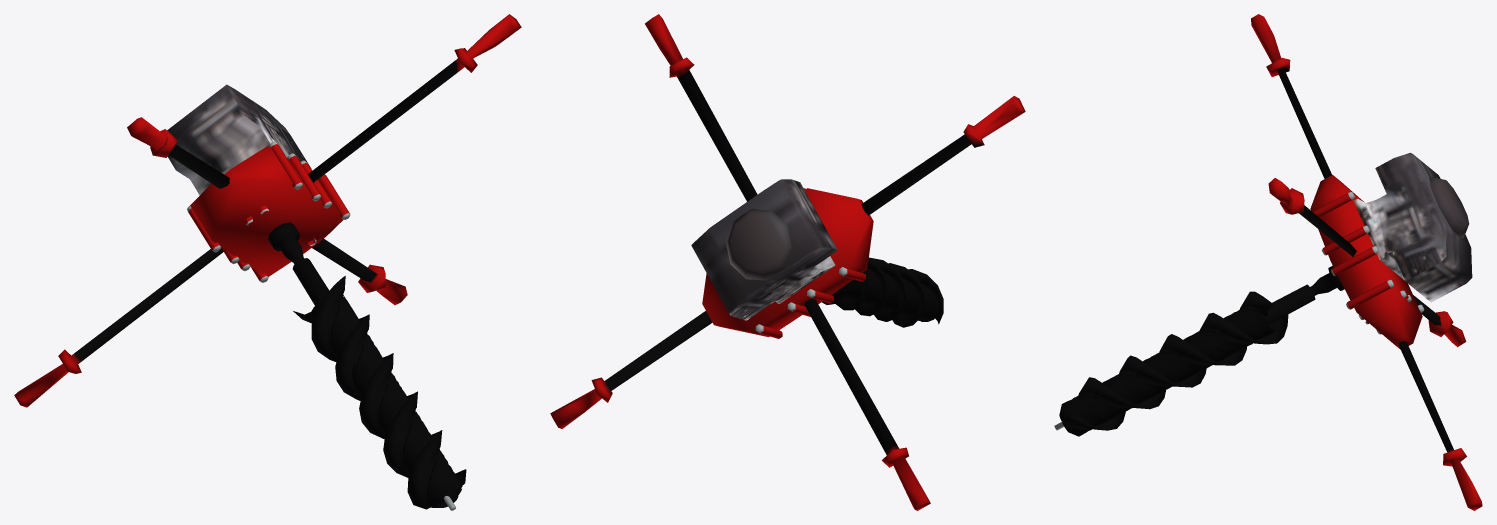
File: WorldItem_HCAuger.fbx
The picture shows the model from 3 angles, left to right: view 1: azimuth 30°, elevation 25°; view 2: azimuth 150°, elevation 25°; view 3: azimuth 270°, elevation 25°; orthographic projection. The views are drawn at different scales.
Parts seen in each view (by area): view 1: Auger; view 2: Auger; view 3: Auger.
Boxes of the visible parts, left/top/right/bottom form: Auger: left=14, top=14, right=521, bottom=510; Auger: left=550, top=14, right=1025, bottom=510; Auger: left=1054, top=14, right=1482, bottom=510.
Size of the model in its own units: 0.4525 by 0.3976 by 0.4556.
